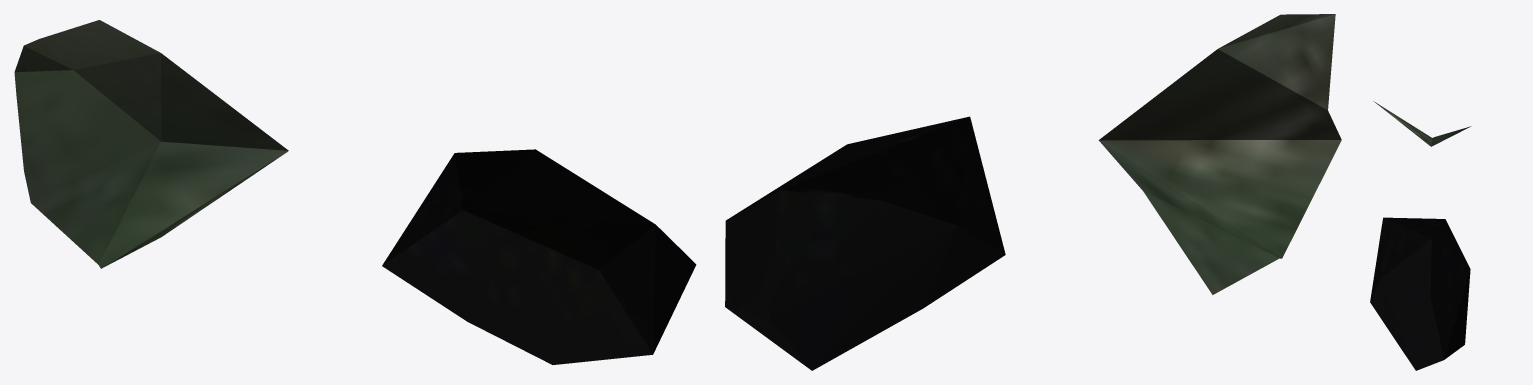
3 renders of one model, left to right at view 1: azimuth 30°, elevation 25°; view 2: azimuth 150°, elevation 25°; view 3: azimuth 270°, elevation 25°, orthographic. The views are drawn at different scales.
Size of the model in its own units: 4.23 by 3.37 by 1.95.
Materials: 1 (1 with a texture image).
